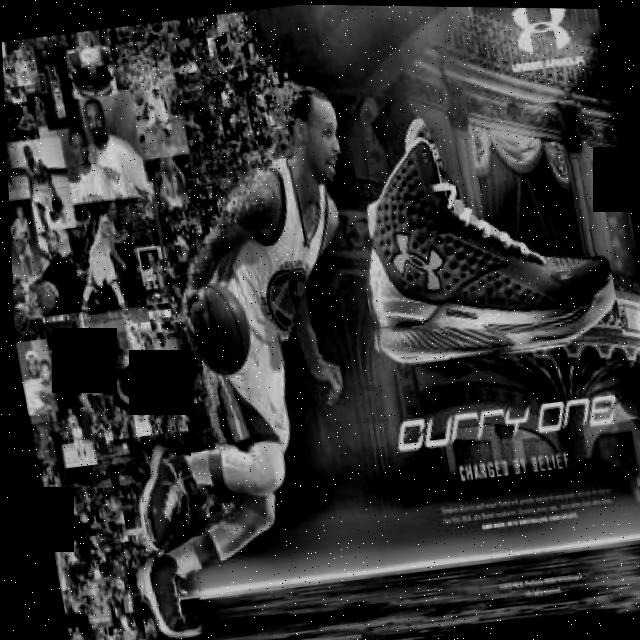shoe: (331, 94, 622, 374), (124, 433, 201, 543), (126, 548, 202, 640)
